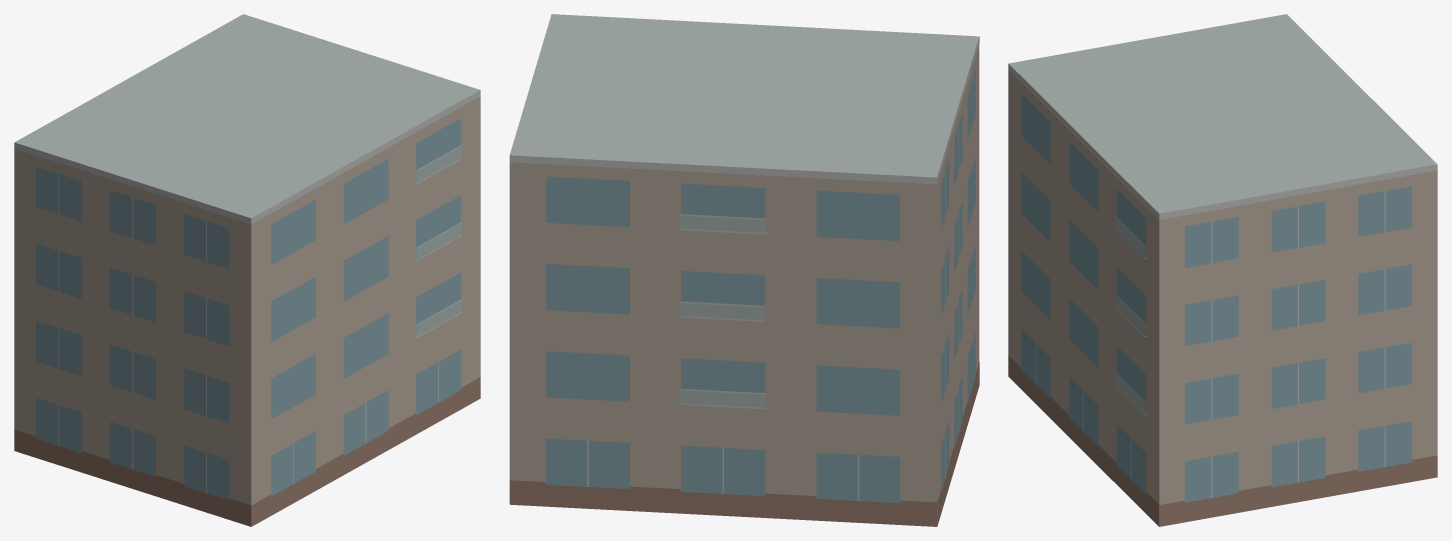
The model's file is survey-upis-32776198.glb.
The picture shows the model from 3 angles, left to right: view 1: azimuth 30°, elevation 25°; view 2: azimuth 150°, elevation 25°; view 3: azimuth 270°, elevation 25°; orthographic projection. The views are drawn at different scales.
Parts seen in each view (by area): view 1: survey-upis-32776198.tmp; view 2: survey-upis-32776198.tmp; view 3: survey-upis-32776198.tmp.
Part boxes in pixels (x1=…): survey-upis-32776198.tmp: x1=14, y1=14, x2=480, y2=526; survey-upis-32776198.tmp: x1=509, y1=14, x2=979, y2=526; survey-upis-32776198.tmp: x1=1008, y1=14, x2=1437, y2=526.
Size of the model in its own units: 16.7 by 12.2 by 15.16.
